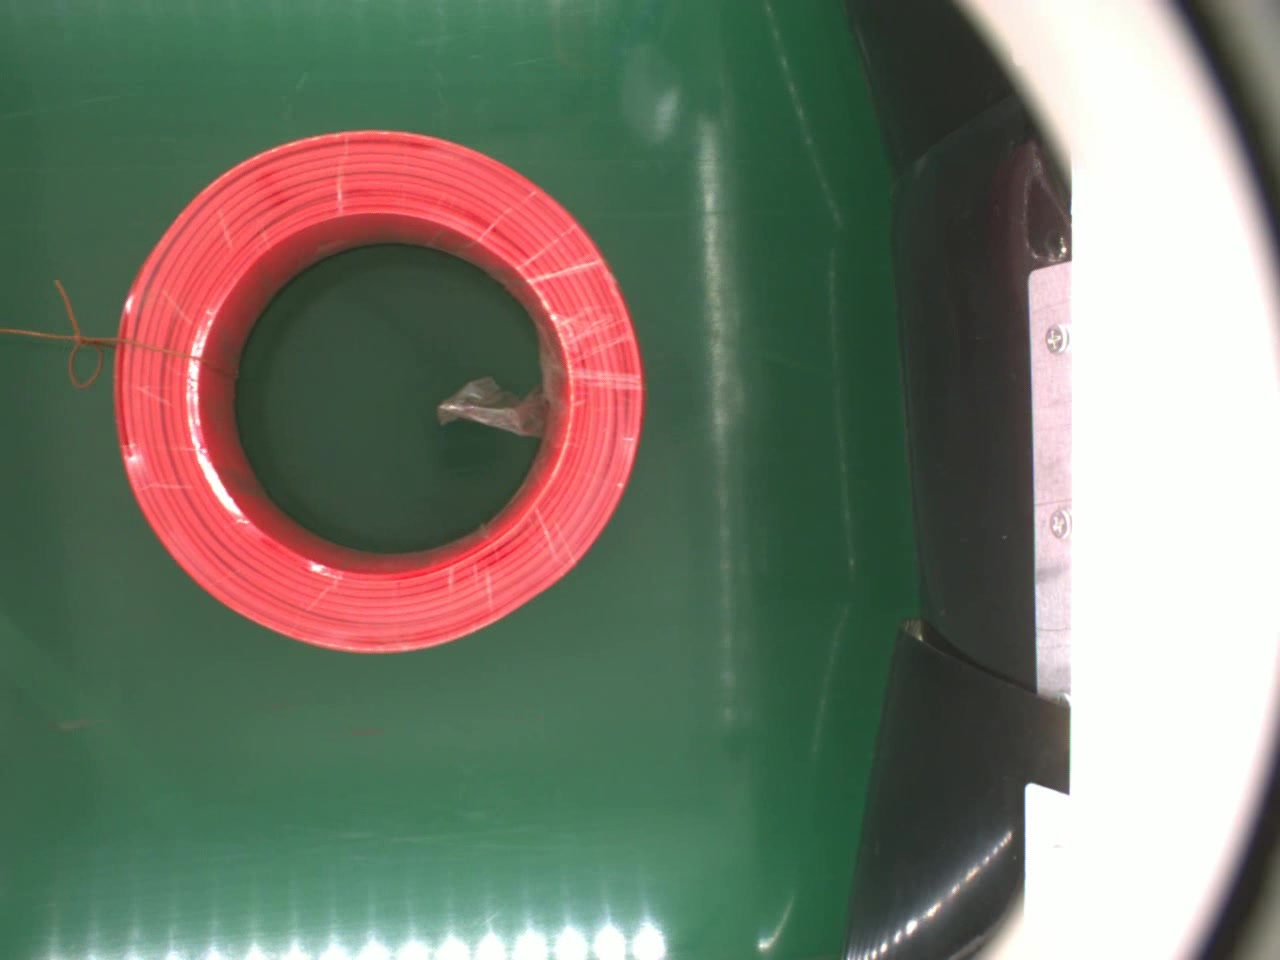red: (110, 125, 645, 653)
